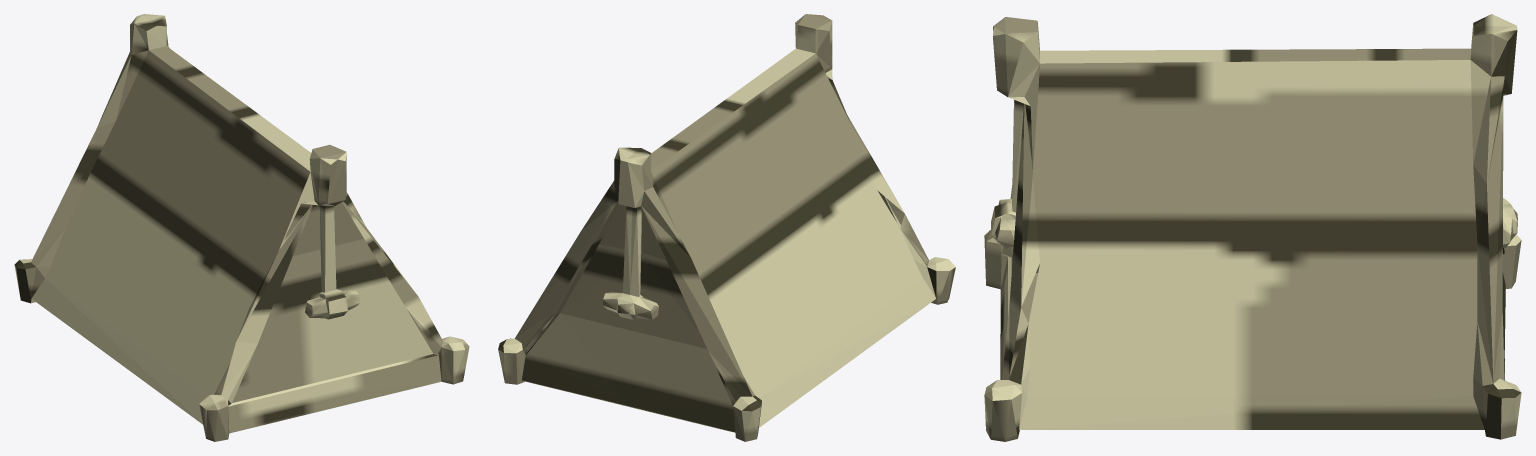
Rendered from Tent.fbx.
3 renders of one model, left to right at view 1: azimuth 30°, elevation 25°; view 2: azimuth 150°, elevation 25°; view 3: azimuth 270°, elevation 25°, orthographic. The views are drawn at different scales.
Visible parts, largest first — view 1: prop; view 2: prop; view 3: prop.
Part boxes in pixels (x1=…): prop: x1=14, y1=14, x2=469, y2=441; prop: x1=498, y1=14, x2=955, y2=441; prop: x1=984, y1=14, x2=1521, y2=441.
Bounding box in the file's own units: 1.74 × 1.6 × 2.32.
